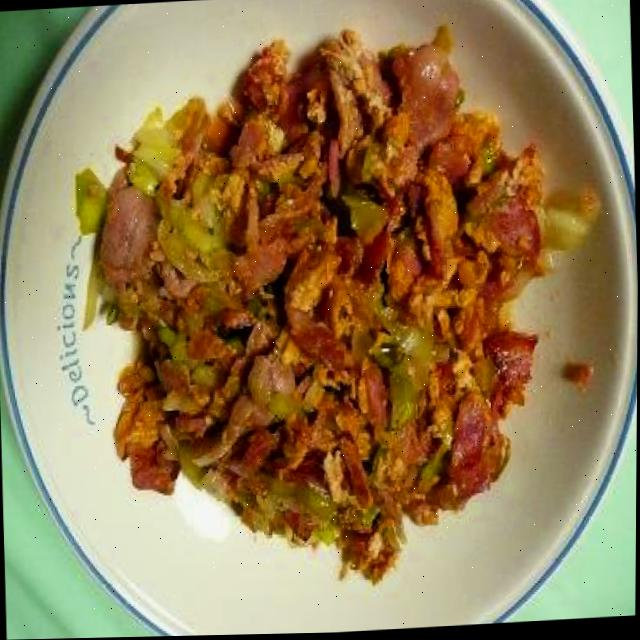蔬菜料理: (91, 53, 533, 556)
